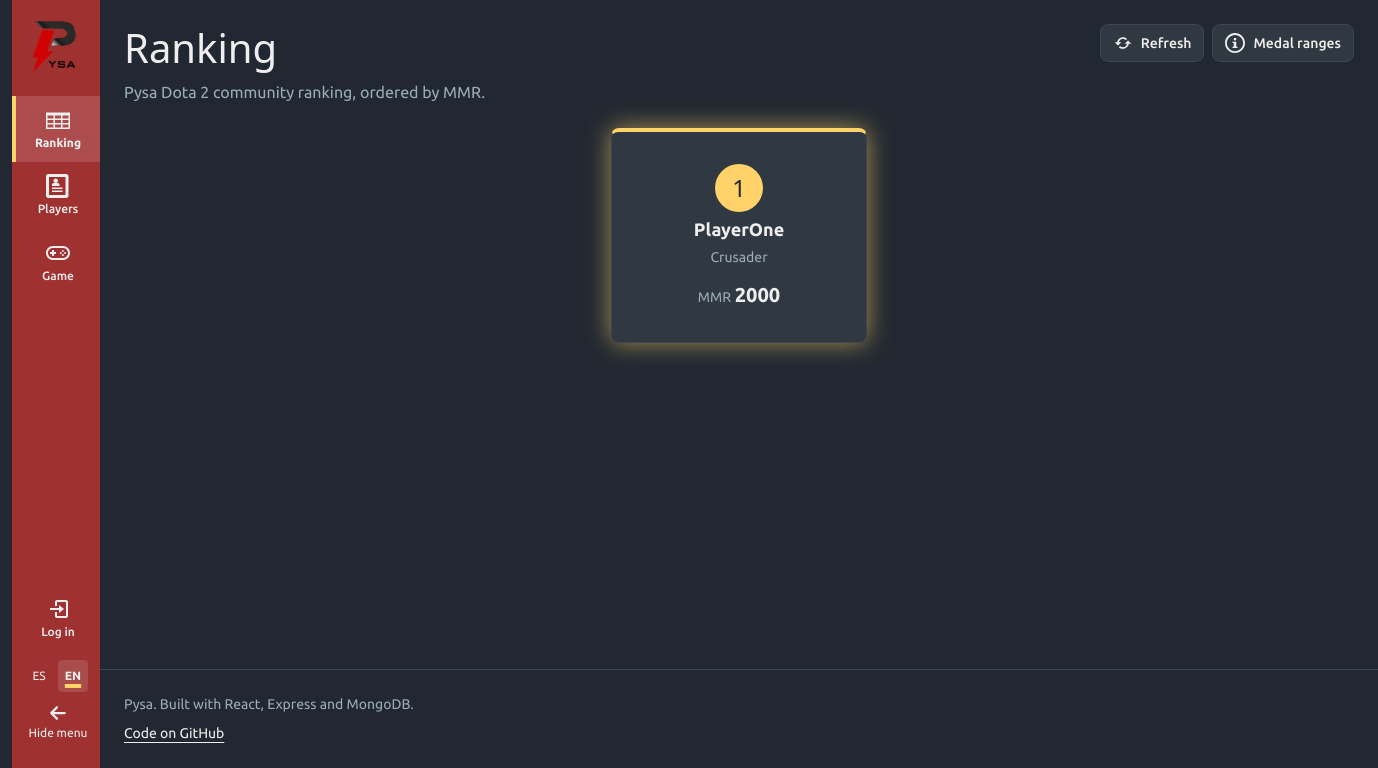
Test case: in English › Home: the medal ranges list the medals in English
This screenshot has width=1378, height=768.
Expected: the text "PlayerOne" is shown, [694,216,784,243]
Click the button "Medal ranges". click: [1283, 43]
box: [1212,24,1354,62]
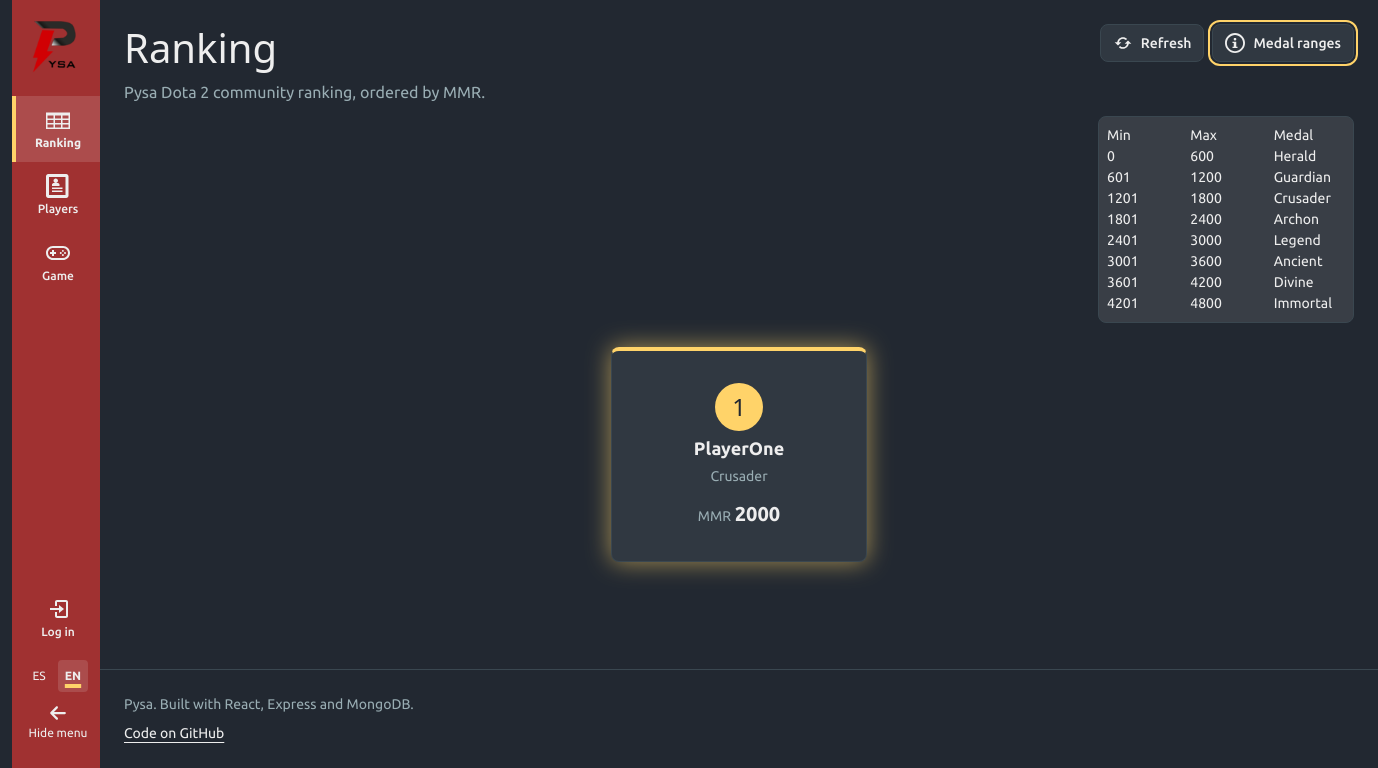
Now the text "Min" is shown, box [1107,127,1131,143]
Now the text "Max" is shown, box [1190,127,1217,143]
Now the text "Medal" is shown, box [1274,127,1313,143]
